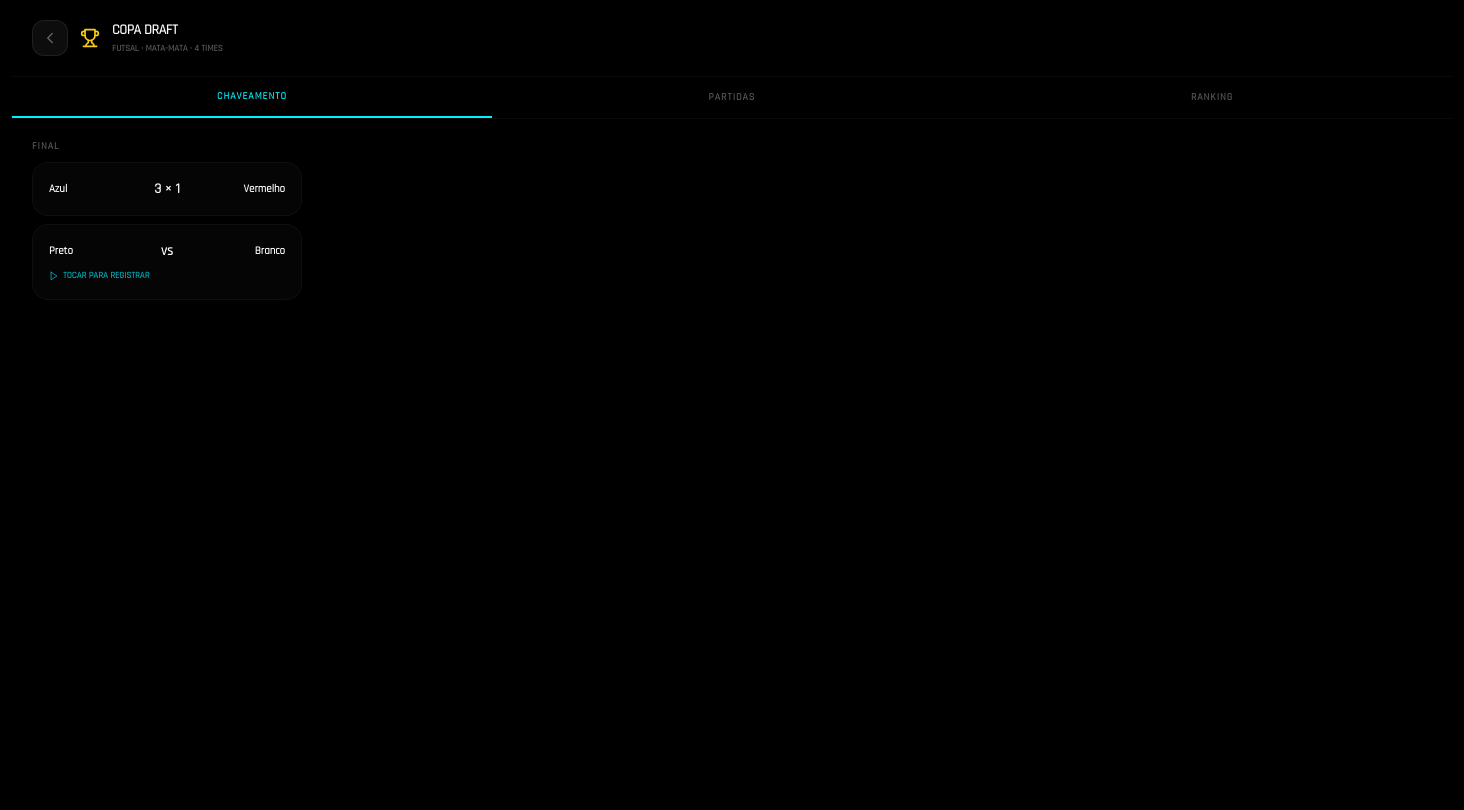
Scenario: TournamentPage › tab ranking › clicar em "Ranking" exibe artilheiros
Step 1. Click the button "Ranking" → coordinates (1212, 98), box [972, 77, 1452, 118]
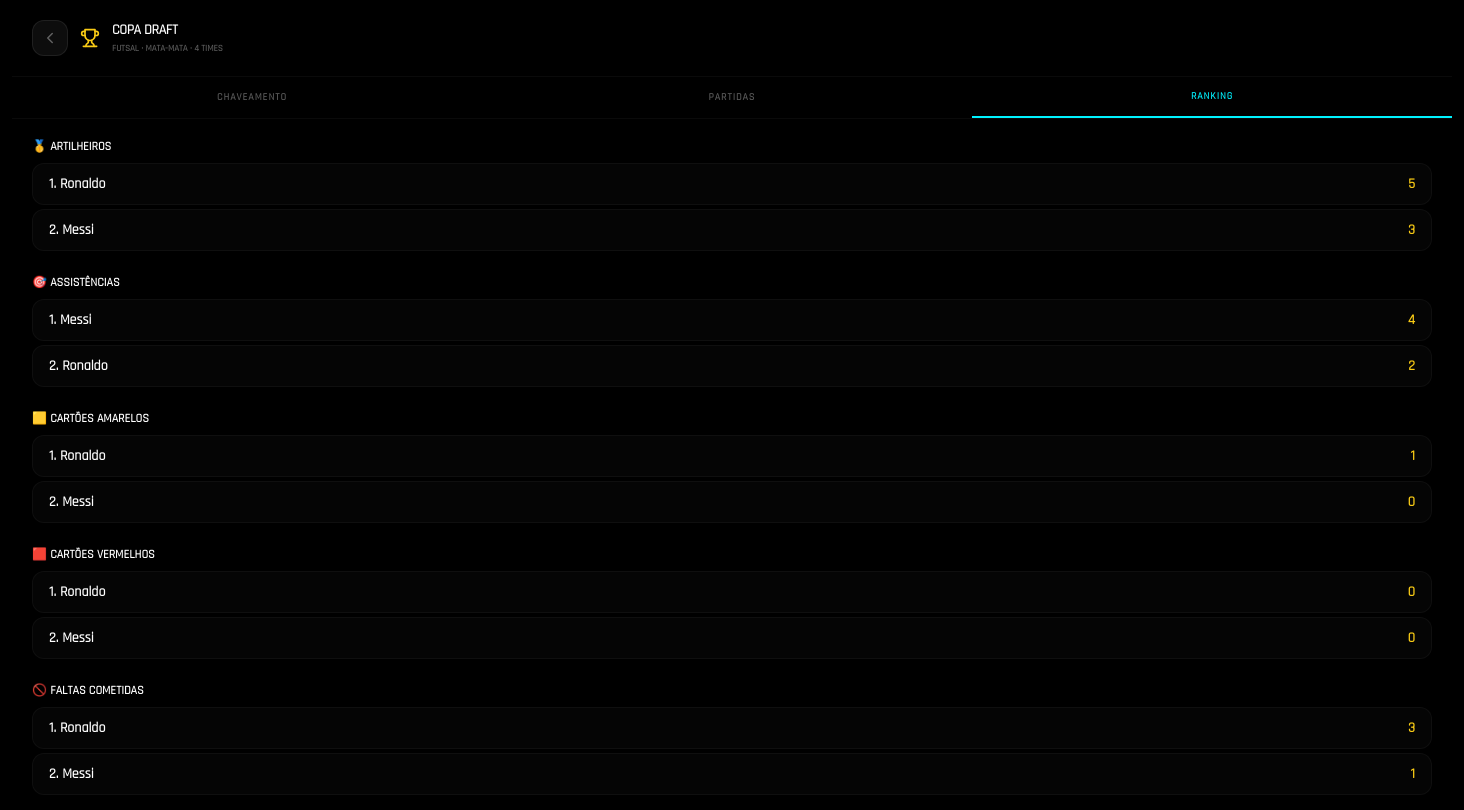
Now the heading "🥇 Artilheiros" is shown, box [32, 139, 111, 154]
Now the text "1. Ronaldo" below "🥇 Artilheiros" is shown, box [60, 175, 105, 193]
